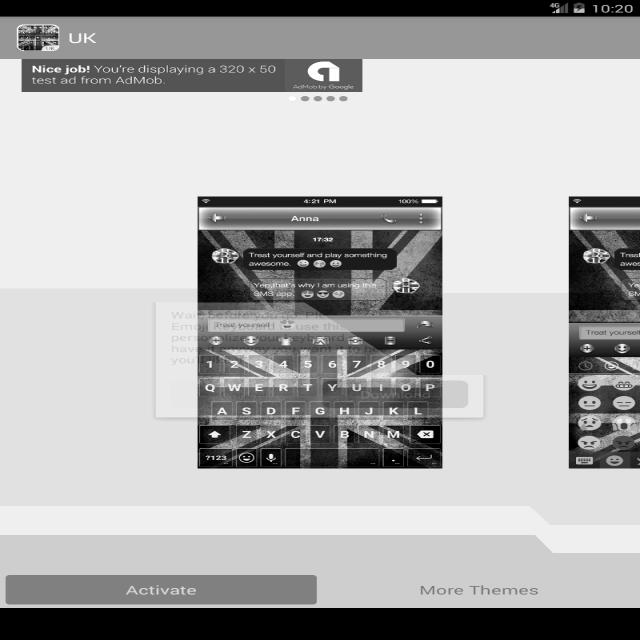Button: (1, 570, 325, 608)
ImageView: (195, 188, 452, 466), (561, 190, 638, 472), (292, 58, 353, 88), (11, 21, 60, 51)
TextView: (72, 30, 108, 46)
